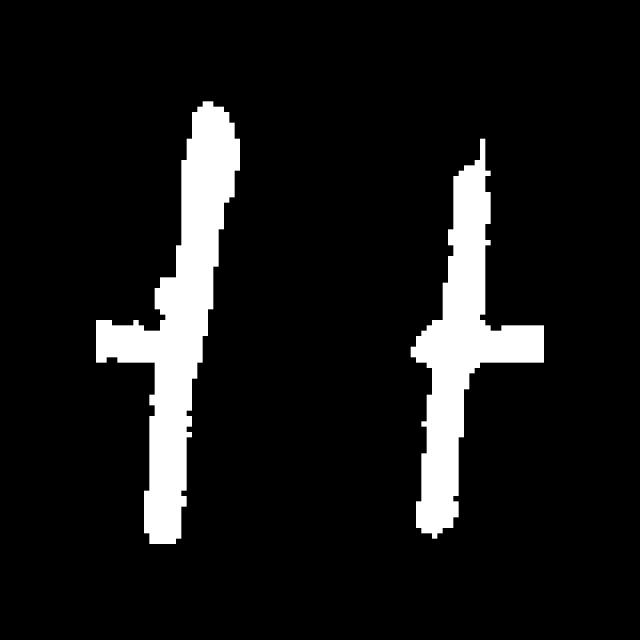capacitor: (137, 82, 487, 556)
